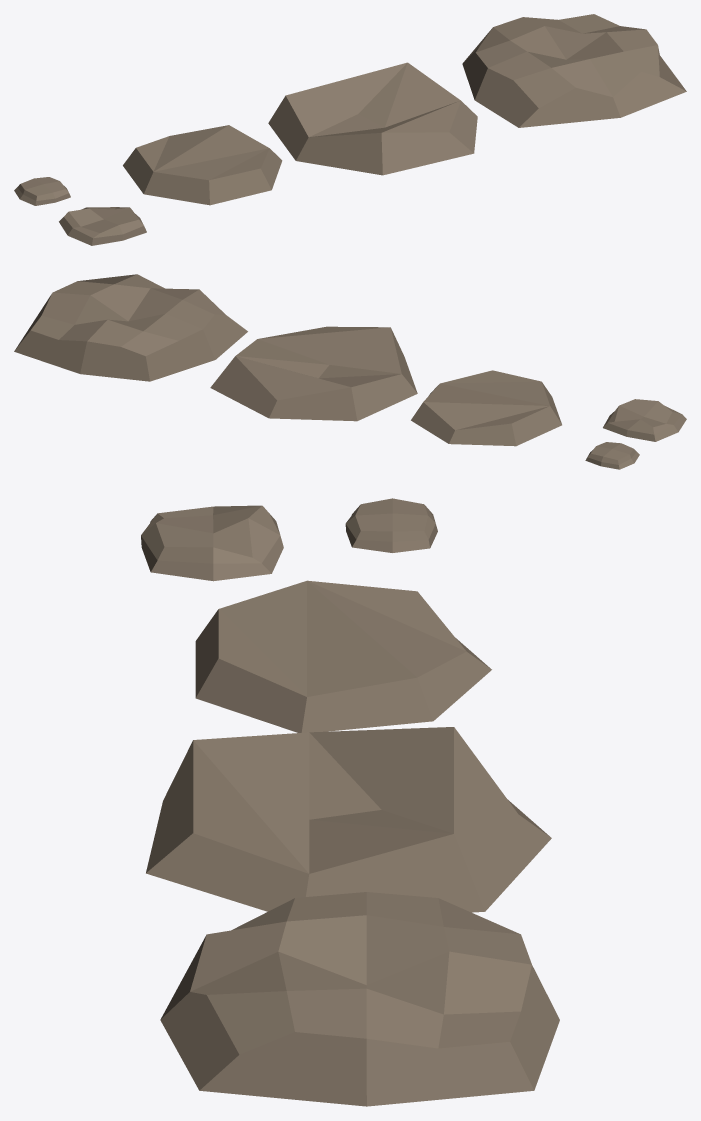
Rendered from Ground-Pieces-b.fbx.
3 views of the same model, one above another, from view 1: azimuth 30°, elevation 25°; view 2: azimuth 150°, elevation 25°; view 3: azimuth 270°, elevation 25° (orthographic). The views are drawn at different scales.
Visible parts, largest first — view 1: Ground-Piece-5-b, Ground-Piece-4-b, Ground-Piece-3-b, Ground-Piece-2-b, Ground-Piece-1-b; view 2: Ground-Piece-5-b, Ground-Piece-4-b, Ground-Piece-3-b, Ground-Piece-2-b, Ground-Piece-1-b; view 3: Ground-Piece-5-b, Ground-Piece-4-b, Ground-Piece-3-b, Ground-Piece-2-b, Ground-Piece-1-b.
Boxes of the visible parts, left/top/right/bottom form: Ground-Piece-5-b: left=462, top=14, right=686, bottom=127; Ground-Piece-4-b: left=268, top=62, right=477, bottom=175; Ground-Piece-3-b: left=123, top=125, right=282, bottom=205; Ground-Piece-2-b: left=59, top=207, right=146, bottom=245; Ground-Piece-1-b: left=14, top=177, right=70, bottom=205; Ground-Piece-5-b: left=14, top=274, right=247, bottom=381; Ground-Piece-4-b: left=210, top=326, right=417, bottom=421; Ground-Piece-3-b: left=411, top=370, right=561, bottom=446; Ground-Piece-2-b: left=603, top=399, right=686, bottom=441; Ground-Piece-1-b: left=585, top=442, right=639, bottom=469; Ground-Piece-5-b: left=160, top=892, right=559, bottom=1106; Ground-Piece-4-b: left=146, top=727, right=551, bottom=912; Ground-Piece-3-b: left=195, top=580, right=491, bottom=732; Ground-Piece-2-b: left=141, top=505, right=283, bottom=581; Ground-Piece-1-b: left=345, top=498, right=437, bottom=552.
Size of the model in its own units: 266 by 14.56 by 80.26.
